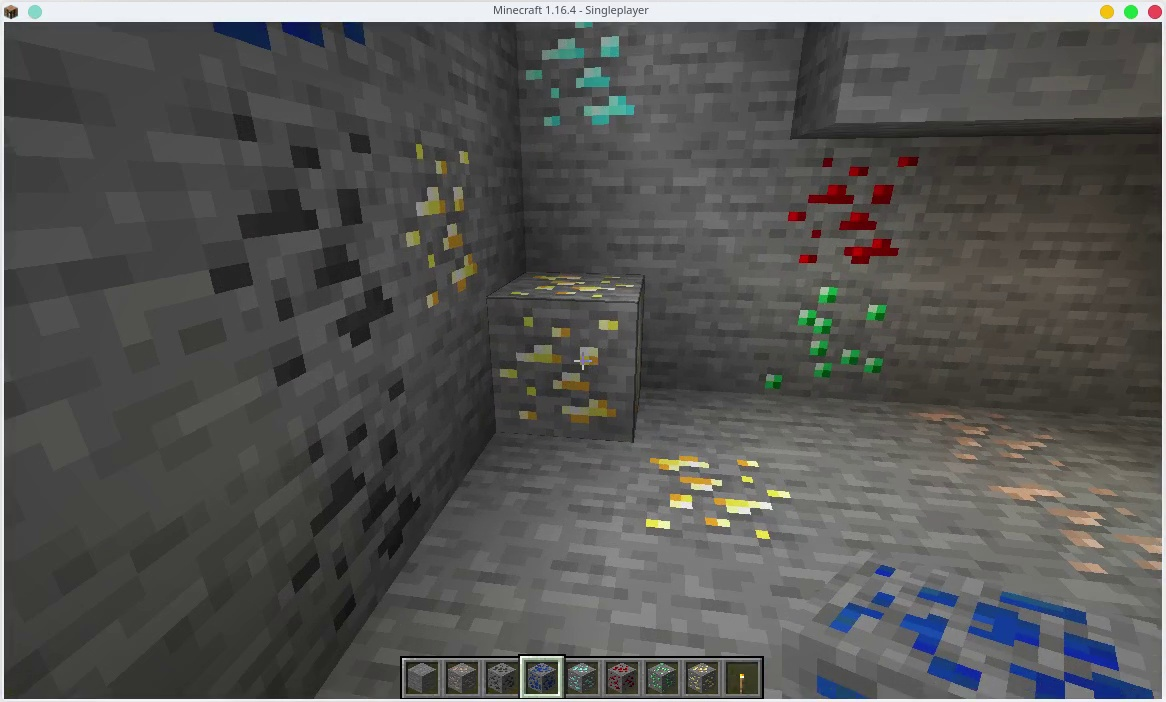gold: (487, 260, 653, 439), (628, 445, 793, 549), (402, 130, 484, 311), (688, 661, 718, 693)
